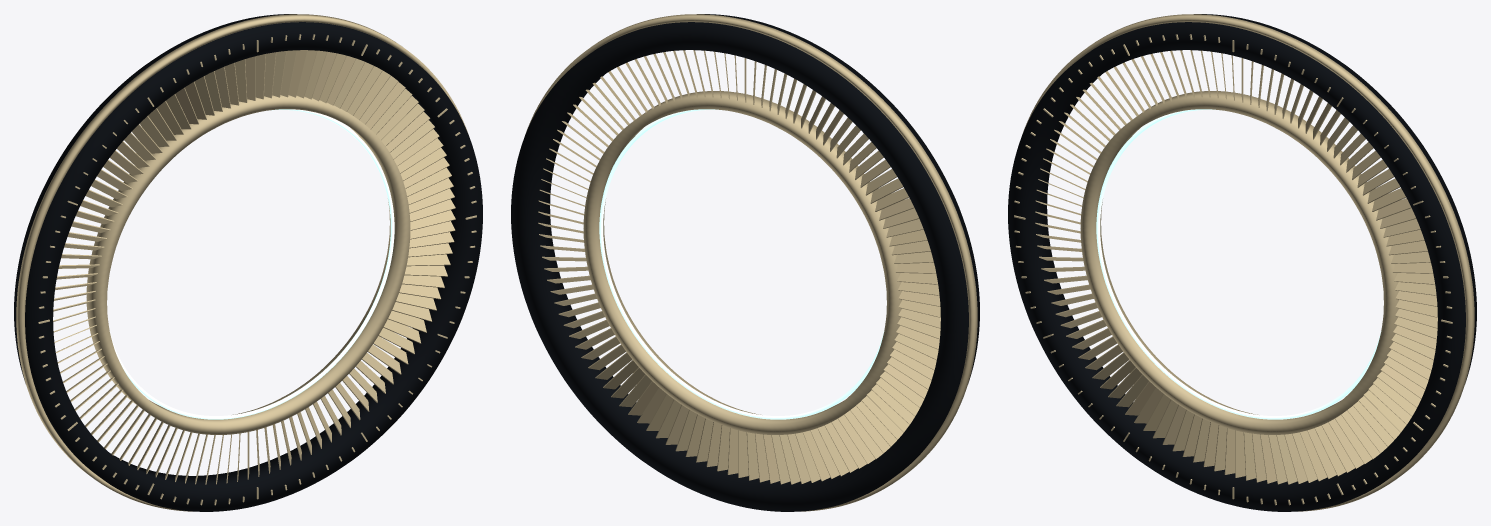
Rendered from snapring.glb.
3 views of the same model, side by side, from view 1: azimuth 30°, elevation 25°; view 2: azimuth 150°, elevation 25°; view 3: azimuth 330°, elevation 25° (orthographic).
Parts seen in each view (by area): view 1: Ring_Outer, Ring_Blades, Ring_Brass, Ring_Glow, Ring_Ticks; view 2: Ring_Outer, Ring_Blades, Ring_Brass, Ring_Glow; view 3: Ring_Outer, Ring_Blades, Ring_Brass, Ring_Glow, Ring_Ticks.
Part boxes in pixels (box(x1,y1,x2,y2)): Ring_Outer: box(14, 14, 482, 511); Ring_Blades: box(53, 50, 455, 484); Ring_Brass: box(16, 14, 468, 511); Ring_Glow: box(109, 109, 394, 419); Ring_Ticks: box(38, 34, 476, 505); Ring_Outer: box(511, 14, 979, 511); Ring_Blades: box(538, 50, 940, 484); Ring_Brass: box(525, 14, 977, 511); Ring_Glow: box(599, 109, 884, 419); Ring_Outer: box(1008, 14, 1476, 511); Ring_Blades: box(1035, 50, 1437, 484); Ring_Brass: box(1022, 14, 1474, 511); Ring_Glow: box(1096, 109, 1381, 419); Ring_Ticks: box(1014, 34, 1452, 505).
Size of the model in its own units: 6.76 by 6.76 by 0.4648.
